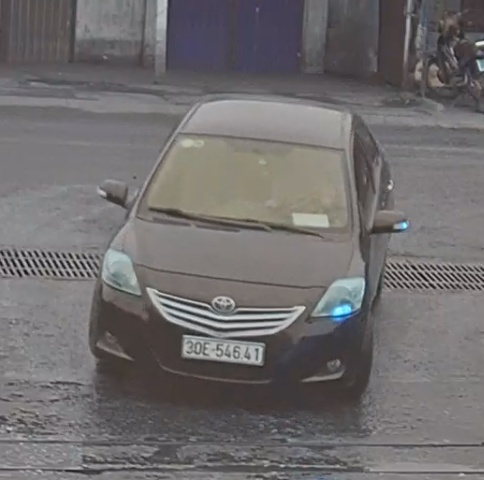vehicle plate: (178, 327, 271, 372)
